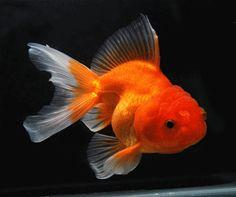goldfish: (42, 50, 219, 171)
